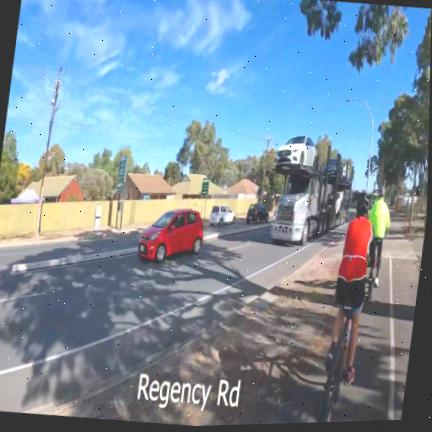Bike_Lane: (329, 259, 415, 422), (275, 323, 332, 423), (391, 259, 412, 296)
